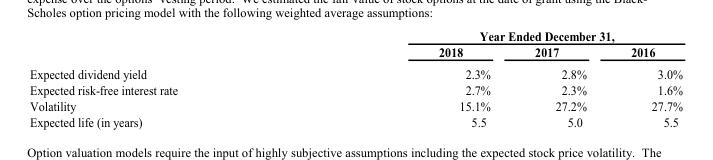table: (29, 28, 682, 129)
table column: (29, 28, 307, 129), (307, 28, 511, 129), (511, 28, 608, 129), (608, 28, 682, 129)
table column header: (29, 28, 682, 62)
table row: (29, 43, 682, 62), (29, 62, 682, 81), (29, 81, 682, 97), (29, 97, 682, 113), (29, 113, 682, 129), (29, 28, 682, 43)
table spanning cell: (307, 28, 682, 43)
